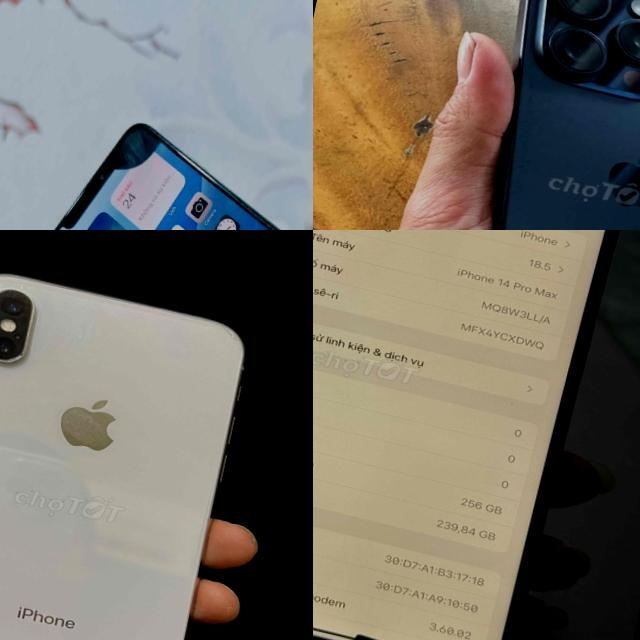gen_14: (313, 230, 628, 640)
gen_15: (423, 0, 640, 230)
gen_x_xs: (0, 275, 243, 640), (0, 103, 313, 230)
